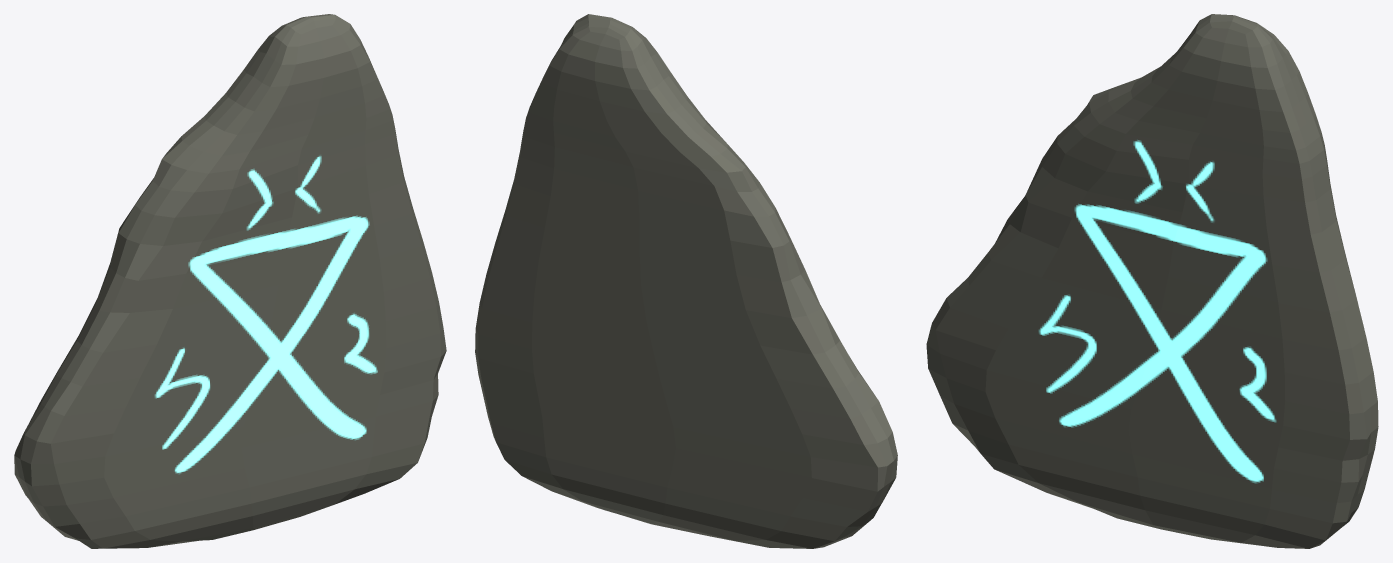
File: GeluTablet.fbx
3 renders of one model, left to right at view 1: azimuth 30°, elevation 25°; view 2: azimuth 150°, elevation 25°; view 3: azimuth 330°, elevation 25°, orthographic. The views are drawn at different scales.
Visible parts, largest first — view 1: GeluTablet; view 2: GeluTablet; view 3: GeluTablet.
Boxes of the visible parts, x1,y1,x2,y2 form: GeluTablet: [14, 14, 446, 548]; GeluTablet: [475, 14, 897, 548]; GeluTablet: [926, 14, 1378, 548].
Size of the model in its own units: 402 by 454 by 57.39.
